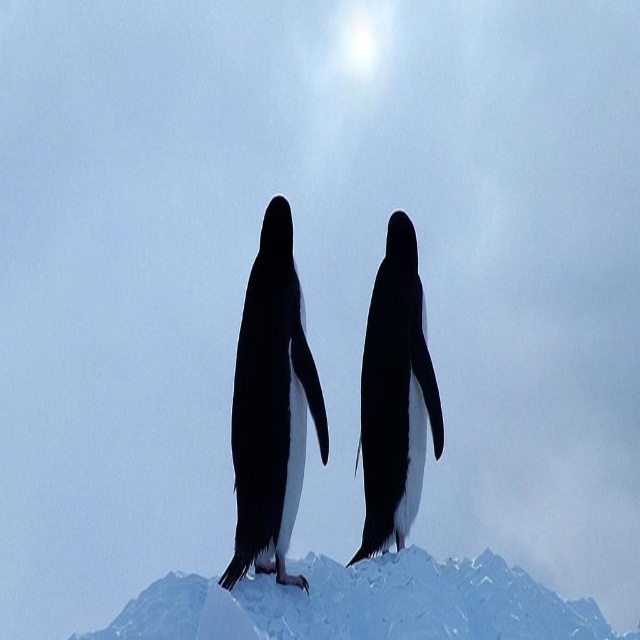Penguin: (217, 192, 330, 598), (348, 201, 446, 563)
